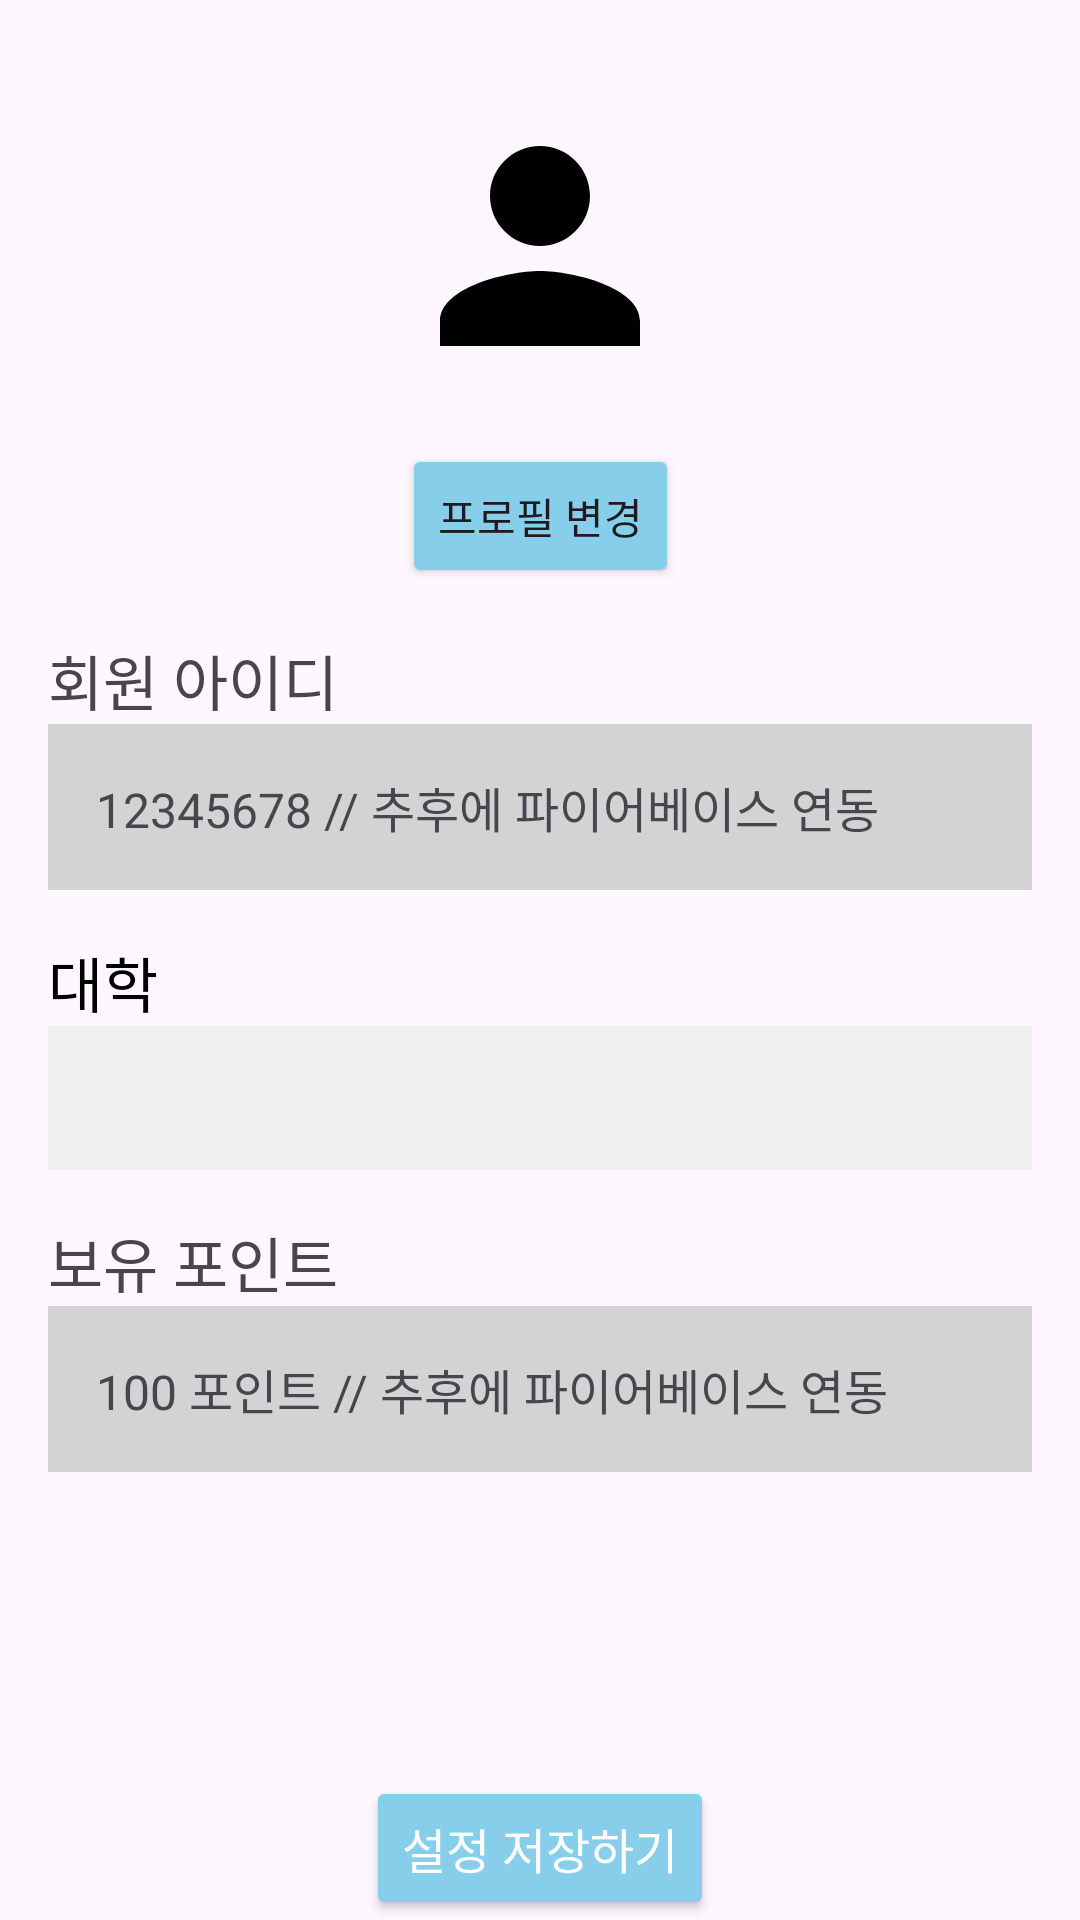

Icon click points for this 1080px x 1920px phone screenshot, format [x,y]:
person: [540,246]
